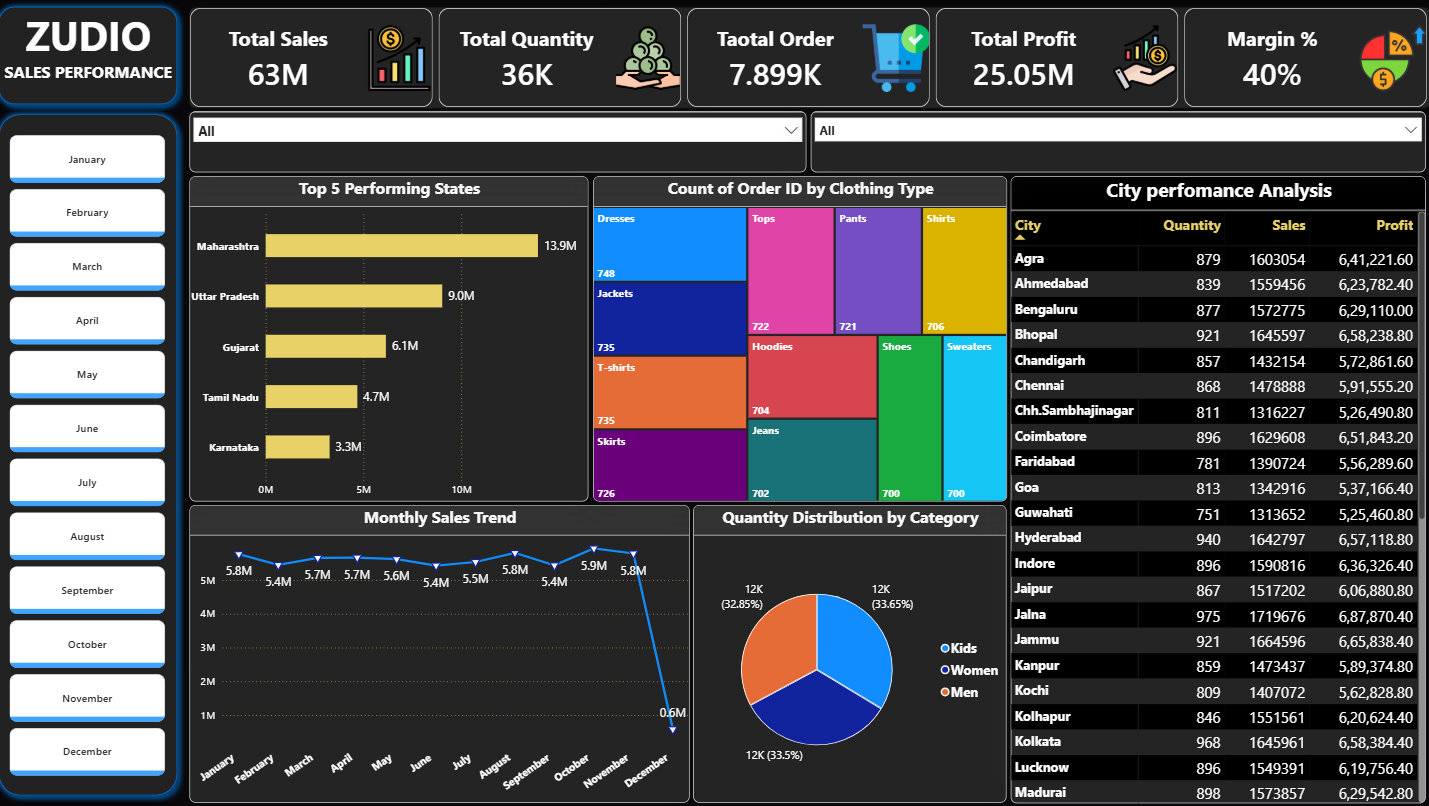

This screenshot's page, from the dashboard's own definition file:
{"tool":"powerbi","page":{"name":"Page 1","canvas":[1920,1080],"ordinal":0},"visuals":[{"type":"shape","box":[0,0,256.4,148.3],"z":0},{"type":"shape","box":[0,144,256.4,927.9],"z":0,"group":"g1"},{"type":"group","id":"g1","title":"Group 1","box":[0,144,256.4,927.9],"z":1000},{"type":"advancedSlicerVisual","fields":{"Values":["Zudio_sales_data.Month"]},"box":[24,160,208,896],"z":1000,"group":"g1"},{"type":"textbox","box":[0,10,257.1,135.3],"z":2000},{"type":"cardVisual","fields":{"Data":["Zudio_sales_data.Total Sales","Sum(Zudio_sales_data.Quantity)","CountNonNull(Zudio_sales_data.Order ID)","Zudio_sales_data.Total Profit","Zudio_sales_data.Total Margin %"]},"box":[263.4,10.5,1657,134.3],"z":3000},{"type":"lineChart","title":"Monthly Sales Trend","fields":{"Category":["Zudio_sales_data.Month"],"Y":["Zudio_sales_data.Total Sales"]},"box":[263.8,674.6,667.9,397.4],"z":4000},{"type":"pieChart","title":"Quantity Distribution by Category","fields":{"Y":["Sum(Zudio_sales_data.Quantity)"],"Category":["Zudio_sales_data.Category"]},"box":[936.6,675,418.6,397.7],"z":5000},{"type":"clusteredBarChart","title":"Top 5 Performing States","fields":{"Category":["Zudio_sales_data.State"],"Y":["Zudio_sales_data.Total Sales"]},"box":[263.8,235.4,532.7,434.1],"z":6000},{"type":"pivotTable","title":"City perfomance Analysis","fields":{"Values":["Sum(Zudio_sales_data.Quantity)","Zudio_sales_data.Total Sales","Zudio_sales_data.Total Profit"],"Rows":["Zudio_sales_data.City"]},"box":[1360.5,235.5,554.7,837.2],"z":7000},{"type":"treemap","fields":{"Group":["Zudio_sales_data.Clothing Type"],"Values":["CountNonNull(Zudio_sales_data.Order ID)"]},"box":[802.3,235.5,552.9,434.3],"z":8000},{"type":"slicer","fields":{"Values":["Zudio_sales_data.State"]},"box":[263.4,148.3,824,82],"z":9000},{"type":"slicer","fields":{"Values":["Zudio_sales_data.City"]},"box":[1093.6,148.3,821.5,82],"z":10000}]}

Visuals, with their boxes in screenshot pixels (x1, y1, x2, y2), scaled from the page's 1920x1080 canvas onto the 1429x806 screenshot:
shape: region(0, 0, 191, 111)
shape: region(0, 107, 191, 800)
"Group 1" group: region(0, 107, 191, 800)
advancedSlicerVisual - Zudio_sales_data.Month: region(18, 119, 173, 788)
textbox: region(0, 7, 191, 108)
cardVisual - Zudio_sales_data.Total Sales x Sum(Zudio_sales_data.Quantity): region(196, 8, 1428, 108)
"Monthly Sales Trend" lineChart: region(196, 503, 693, 800)
"Quantity Distribution by Category" pieChart: region(697, 504, 1009, 801)
"Top 5 Performing States" clusteredBarChart: region(196, 176, 593, 500)
"City perfomance Analysis" pivotTable: region(1013, 176, 1425, 801)
treemap - Zudio_sales_data.Clothing Type x CountNonNull(Zudio_sales_data.Order ID): region(597, 176, 1009, 500)
slicer - Zudio_sales_data.State: region(196, 111, 809, 172)
slicer - Zudio_sales_data.City: region(814, 111, 1425, 172)
